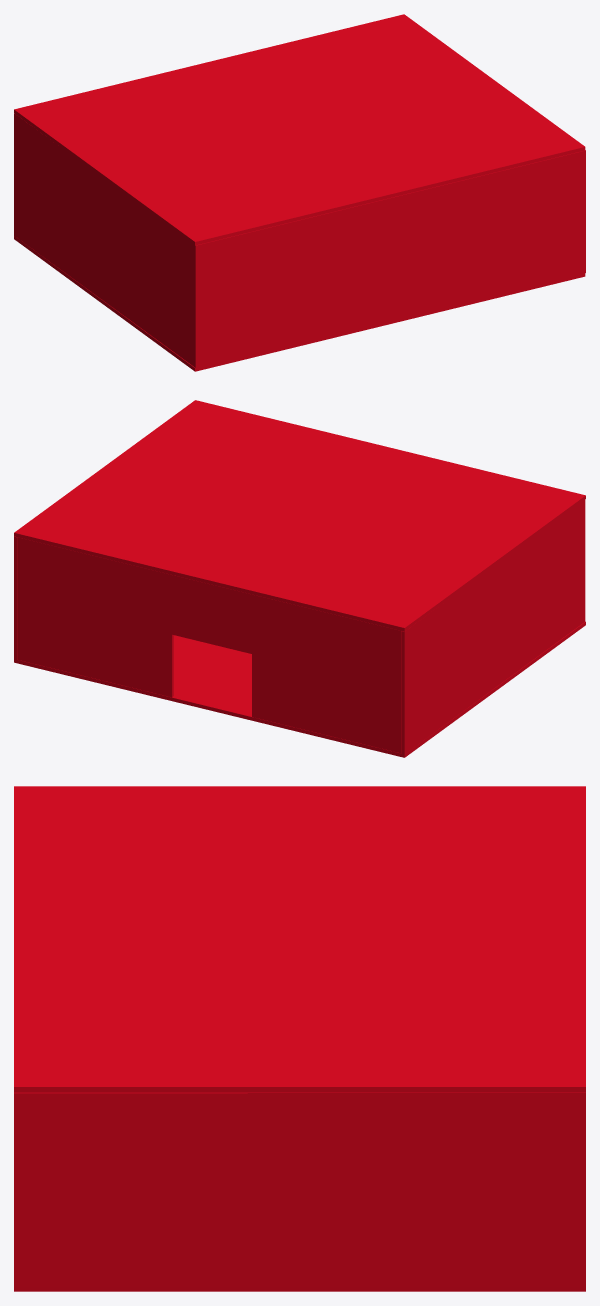
3 renders of one model, top to bottom at view 1: azimuth 30°, elevation 25°; view 2: azimuth 150°, elevation 25°; view 3: azimuth 270°, elevation 25°, orthographic. The views are drawn at different scales.
Visible parts, largest first — view 1: Cube.006, Cube.004, Cube.002, Cube.001, Cube.003; view 2: Cube.006, Cube.005, Cube.002, Cube.001, Cube.003; view 3: Cube.006, Cube.003, Cube.001.
Boxes of the visible parts, x1=… form: Cube.006: x1=14, y1=14, x2=585, y2=245; Cube.004: x1=199, y1=151, x2=582, y2=367; Cube.002: x1=14, y1=113, x2=198, y2=367; Cube.001: x1=14, y1=236, x2=585, y2=371; Cube.003: x1=582, y1=150, x2=585, y2=273; Cube.006: x1=14, y1=400, x2=585, y2=631; Cube.005: x1=17, y1=537, x2=401, y2=753; Cube.002: x1=401, y1=500, x2=585, y2=754; Cube.001: x1=14, y1=621, x2=585, y2=757; Cube.003: x1=14, y1=536, x2=17, y2=659; Cube.006: x1=14, y1=786, x2=585, y2=1092; Cube.003: x1=14, y1=1092, x2=585, y2=1286; Cube.001: x1=14, y1=1286, x2=585, y2=1291.
Bounding box in the file's own units: 1152 × 365 × 925.
